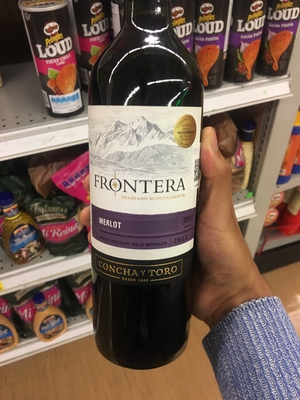frontera merlot: (71, 12, 221, 380)
